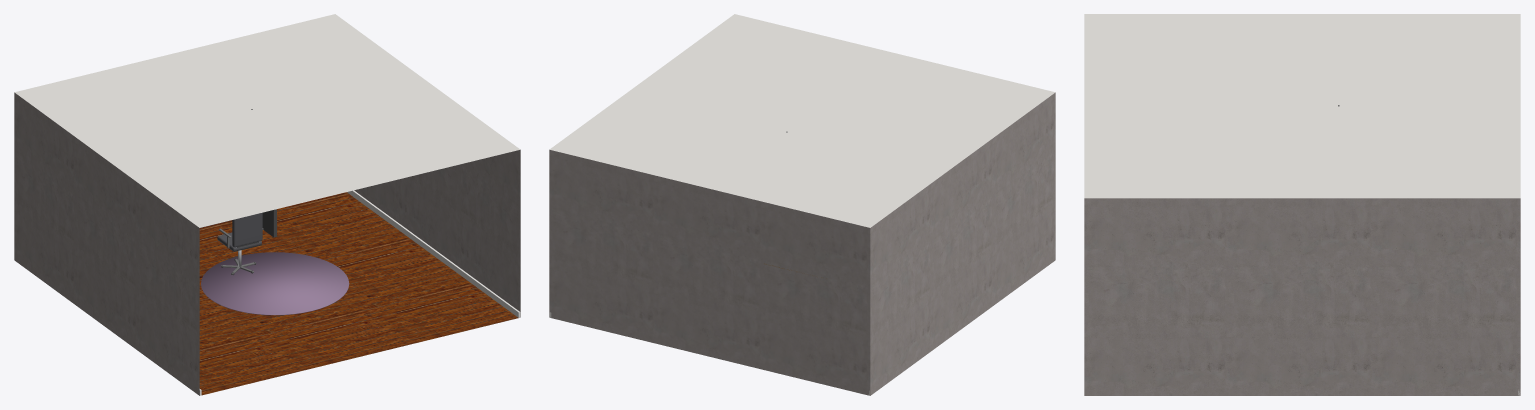
File: room.glb
The picture shows the model from 3 angles, left to right: view 1: azimuth 30°, elevation 25°; view 2: azimuth 150°, elevation 25°; view 3: azimuth 270°, elevation 25°; orthographic projection. The views are drawn at different scales.
Visible parts, largest first — view 1: ceiling, wall_left, floor, wall_right, rug, skirting_right, chair_back; view 2: ceiling, wall_back, wall_left; view 3: wall_right, ceiling.
Boxes of the visible parts, x1=… form: ceiling: x1=15, y1=14, x2=519, y2=227; wall_left: x1=14, y1=92, x2=199, y2=395; floor: x1=199, y1=192, x2=518, y2=395; wall_right: x1=354, y1=149, x2=520, y2=317; rug: x1=201, y1=252, x2=349, y2=315; skirting_right: x1=347, y1=190, x2=520, y2=317; chair_back: x1=232, y1=212, x2=262, y2=247; ceiling: x1=550, y1=14, x2=1054, y2=227; wall_back: x1=549, y1=149, x2=870, y2=395; wall_left: x1=870, y1=92, x2=1055, y2=395; wall_right: x1=1084, y1=198, x2=1520, y2=395; ceiling: x1=1084, y1=14, x2=1520, y2=198.
Bounding box in the file's own units: 6 × 3.01 × 6.
27 materials, 3 textured.
